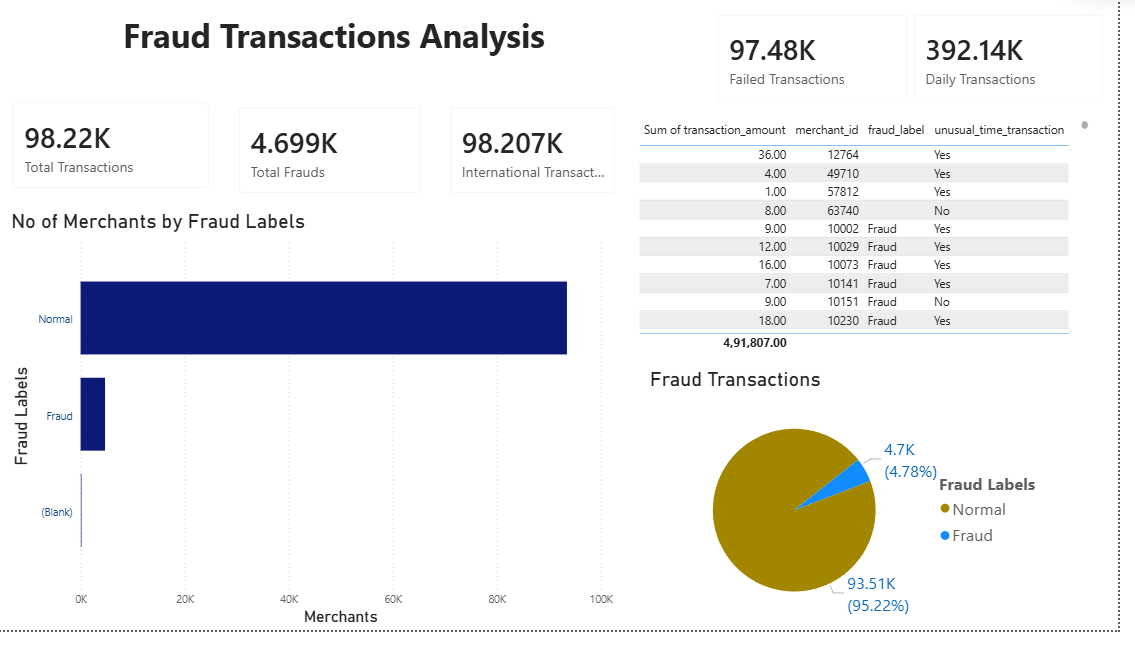

This screenshot's page, from the dashboard's own definition file:
{"tool":"powerbi","page":{"name":"Page 1","canvas":[1280,720],"ordinal":0},"visuals":[{"type":"cardVisual","title":"Total Transactions","fields":{"Data":["CountNonNull(fact_transactions.transaction_id)"]},"box":[0,100,258.6,132.9],"z":0},{"type":"cardVisual","fields":{"Data":["CountNonNull(fact_transactions.fraud_label)"]},"box":[258,106,242,132],"z":1000},{"type":"pieChart","title":"Fraud Transactions","fields":{"Category":["fact_transactions.fraud_label"],"Y":["CountNonNull(fact_transactions.fraud_label)"]},"box":[740,420,468.3,300],"z":2000},{"type":"cardVisual","fields":{"Data":["Sum(fact_transactions.failed_transaction_count)","Sum(fact_transactions.daily_transaction_count)"]},"box":[806,0,474,132],"z":3000},{"type":"cardVisual","fields":{"Data":["CountNonNull(fact_transactions.is_international_transaction)"]},"box":[500,106,222,132],"z":4000},{"type":"barChart","title":"No of Merchants by Fraud Labels","fields":{"Category":["fact_transactions.fraud_label"],"Y":["CountNonNull(fact_transactions.merchant_id)"]},"box":[10,238,698,482],"z":5000},{"type":"tableEx","fields":{"Values":["Sum(fact_transactions.transaction_amount)","fact_transactions.merchant_id","fact_transactions.fraud_label","fact_transactions.unusual_time_transaction"]},"box":[727.1,132.9,524.3,272.9],"z":6000},{"type":"textbox","box":[17.8,10,733.3,95.6],"z":7000}]}

Visuals, with their boxes in screenshot pixels (x1, y1, x2, y2), scaled from the page's 1280x720 canvas onto the 1135x646 screenshot:
"Total Transactions" cardVisual: {"x1": 0, "y1": 90, "x2": 229, "y2": 209}
cardVisual - CountNonNull(fact_transactions.fraud_label): {"x1": 229, "y1": 95, "x2": 443, "y2": 214}
"Fraud Transactions" pieChart: {"x1": 656, "y1": 377, "x2": 1071, "y2": 645}
cardVisual - Sum(fact_transactions.failed_transaction_count) x Sum(fact_transactions.daily_transaction_count): {"x1": 715, "y1": 0, "x2": 1134, "y2": 118}
cardVisual - CountNonNull(fact_transactions.is_international_transaction): {"x1": 443, "y1": 95, "x2": 640, "y2": 214}
"No of Merchants by Fraud Labels" barChart: {"x1": 9, "y1": 214, "x2": 628, "y2": 645}
tableEx - Sum(fact_transactions.transaction_amount) x fact_transactions.merchant_id: {"x1": 645, "y1": 119, "x2": 1110, "y2": 364}
textbox: {"x1": 16, "y1": 9, "x2": 666, "y2": 95}
